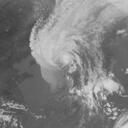cyclone: (28, 0, 124, 113)
